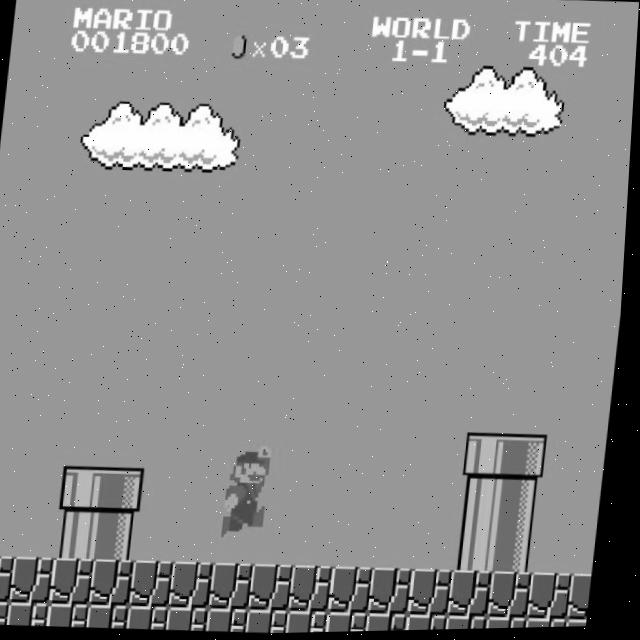0- big_mario: (225, 443, 277, 540)
14- pipe: (459, 525, 505, 574), (463, 480, 509, 528), (503, 482, 549, 530), (61, 511, 106, 560), (101, 513, 146, 562), (499, 527, 544, 575)
15- pipe_head: (65, 466, 110, 515), (105, 467, 150, 516), (508, 436, 553, 484), (468, 435, 513, 482)
17- undestructible_block: (16, 556, 62, 605), (215, 563, 261, 612), (175, 562, 221, 610), (56, 557, 101, 606), (96, 559, 141, 608), (136, 560, 181, 609), (255, 564, 300, 613), (335, 567, 380, 616), (415, 570, 460, 619), (455, 571, 500, 620), (535, 574, 580, 623), (295, 566, 340, 614), (375, 569, 420, 617), (495, 573, 540, 621), (574, 576, 599, 623), (133, 606, 177, 632), (173, 607, 217, 633), (54, 603, 97, 629), (94, 604, 137, 630), (253, 609, 296, 635), (14, 602, 57, 627), (213, 609, 256, 634), (0, 555, 22, 603), (293, 611, 336, 634), (332, 613, 375, 634), (372, 614, 415, 633), (412, 616, 455, 632), (452, 617, 495, 632), (492, 618, 535, 631), (532, 619, 575, 630), (0, 600, 17, 626), (573, 621, 595, 629)
